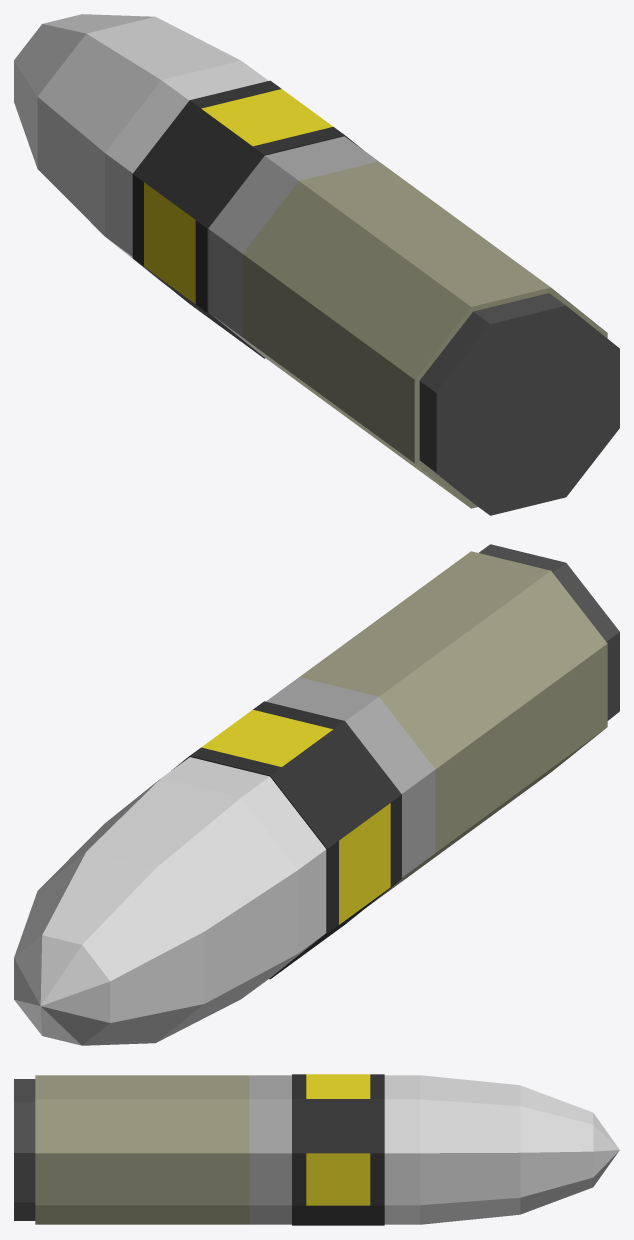
File: ce_ammo_gae_chdemo_std_a.obj
3 renders of one model, top to bottom at view 1: azimuth 30°, elevation 25°; view 2: azimuth 150°, elevation 25°; view 3: azimuth 270°, elevation 25°, orthographic. The views are drawn at different scales.
Parts seen in each view (by area): view 1: ce_ammo_gae_chdemo_std_a_1, ce_ammo_gae_chdemo_std_a_0, ce_ammo_gae_chdemo_std_a_7, ce_ammo_gae_chdemo_std_a_4, ce_ammo_gae_chdemo_std_a_2, ce_ammo_gae_chdemo_std_a_6, ce_ammo_gae_chdemo_std_a_8, ce_ammo_gae_chdemo_std_a_3, ce_ammo_gae_chdemo_std_a_5; view 2: ce_ammo_gae_chdemo_std_a_1, ce_ammo_gae_chdemo_std_a_7, ce_ammo_gae_chdemo_std_a_8, ce_ammo_gae_chdemo_std_a_4, ce_ammo_gae_chdemo_std_a_2, ce_ammo_gae_chdemo_std_a_6, ce_ammo_gae_chdemo_std_a_9, ce_ammo_gae_chdemo_std_a_5, ce_ammo_gae_chdemo_std_a_0, ce_ammo_gae_chdemo_std_a_3; view 3: ce_ammo_gae_chdemo_std_a_1, ce_ammo_gae_chdemo_std_a_7, ce_ammo_gae_chdemo_std_a_4, ce_ammo_gae_chdemo_std_a_8, ce_ammo_gae_chdemo_std_a_2, ce_ammo_gae_chdemo_std_a_6, ce_ammo_gae_chdemo_std_a_0, ce_ammo_gae_chdemo_std_a_3, ce_ammo_gae_chdemo_std_a_5, ce_ammo_gae_chdemo_std_a_9.
Part boxes in pixels (bbox=[...]): ce_ammo_gae_chdemo_std_a_1: bbox=[242, 161, 607, 508]; ce_ammo_gae_chdemo_std_a_0: bbox=[419, 293, 619, 515]; ce_ammo_gae_chdemo_std_a_7: bbox=[37, 16, 240, 236]; ce_ammo_gae_chdemo_std_a_4: bbox=[144, 89, 332, 348]; ce_ammo_gae_chdemo_std_a_2: bbox=[208, 136, 378, 380]; ce_ammo_gae_chdemo_std_a_6: bbox=[105, 61, 268, 285]; ce_ammo_gae_chdemo_std_a_8: bbox=[14, 14, 154, 168]; ce_ammo_gae_chdemo_std_a_3: bbox=[195, 126, 362, 358]; ce_ammo_gae_chdemo_std_a_5: bbox=[132, 80, 281, 311]; ce_ammo_gae_chdemo_std_a_1: bbox=[299, 551, 607, 896]; ce_ammo_gae_chdemo_std_a_7: bbox=[39, 778, 297, 1042]; ce_ammo_gae_chdemo_std_a_8: bbox=[14, 851, 204, 1045]; ce_ammo_gae_chdemo_std_a_4: bbox=[201, 710, 390, 968]; ce_ammo_gae_chdemo_std_a_2: bbox=[266, 677, 435, 906]; ce_ammo_gae_chdemo_std_a_6: bbox=[162, 757, 326, 997]; ce_ammo_gae_chdemo_std_a_9: bbox=[14, 935, 110, 1045]; ce_ammo_gae_chdemo_std_a_5: bbox=[171, 747, 338, 979]; ce_ammo_gae_chdemo_std_a_0: bbox=[479, 544, 619, 720]; ce_ammo_gae_chdemo_std_a_3: bbox=[253, 701, 401, 930]; ce_ammo_gae_chdemo_std_a_1: bbox=[35, 1075, 249, 1224]; ce_ammo_gae_chdemo_std_a_7: bbox=[420, 1075, 520, 1224]; ce_ammo_gae_chdemo_std_a_4: bbox=[306, 1074, 370, 1225]; ce_ammo_gae_chdemo_std_a_8: bbox=[520, 1085, 593, 1214]; ce_ammo_gae_chdemo_std_a_2: bbox=[249, 1075, 291, 1224]; ce_ammo_gae_chdemo_std_a_6: bbox=[384, 1075, 420, 1224]; ce_ammo_gae_chdemo_std_a_0: bbox=[14, 1079, 35, 1220]; ce_ammo_gae_chdemo_std_a_3: bbox=[292, 1074, 306, 1225]; ce_ammo_gae_chdemo_std_a_5: bbox=[370, 1074, 384, 1225]; ce_ammo_gae_chdemo_std_a_9: bbox=[593, 1113, 619, 1186].
Size of the model in its own units: 0.196 by 0.196 by 0.85.
